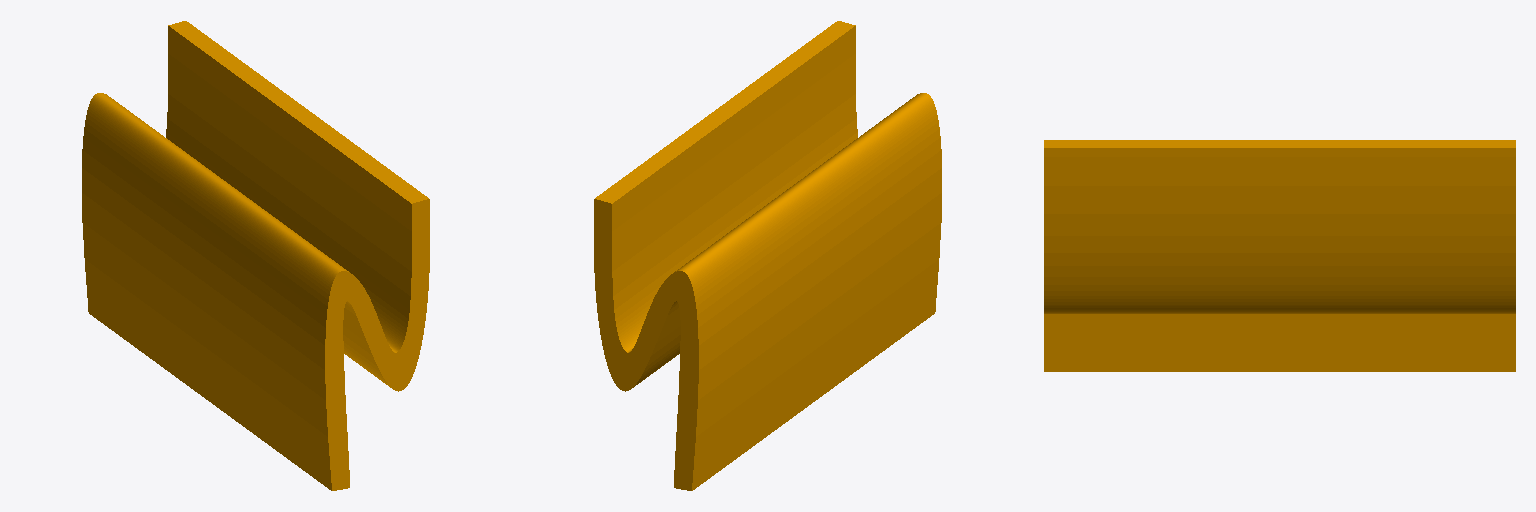
The robot description file, URDF, robot "my_object":
<?xml version="1.0"?>
<robot name="my_object">
  <link name="object_link">
    <inertial>
      <mass value="1.0"/>
      <origin xyz="0 0 0" rpy="0 0 0"/>
      <inertia ixx="0.01" ixy="0" ixz="0" iyy="0.01" iyz="0" izz="0.01"/>
    </inertial>
    <visual>
      <origin xyz="0 0 0" rpy="0 0 0"/>
      <geometry>
        <mesh filename="package://environment/meshes/obj.stl" scale="2.2 2.2 2.2"/>
      </geometry>
    </visual>
    <collision>
      <origin xyz="0 0 0" rpy="0 0 0"/>
      <geometry>
        <mesh filename="package://environment/meshes/obj.stl" scale="2.2 2.2 2.2"/>
      </geometry>
    </collision>
  </link>

  <gazebo reference="object_link">
    <static>true</static>
  </gazebo>
</robot>

--- What the picture shows (computed from the rendered views, not written in the file) ---
3 views of the same robot in one strip: view 1: azimuth 30°, elevation 25°; view 2: azimuth 150°, elevation 25°; view 3: azimuth 270°, elevation 25° (orthographic).
Model my_object with 1 links and 0 joints (none), rooted at object_link, posed all joints at 0.
Visible links, largest first — view 1: object_link; view 2: object_link; view 3: object_link.
Link boxes in pixels (x1,y1,x2,y2): object_link: [82, 21, 429, 490]; object_link: [594, 21, 941, 490]; object_link: [1044, 140, 1515, 371].
Bounding box of the posed robot: 0.067 × 0.2684 × 0.1641 m (x, y, z).
1 mesh visuals loaded from 1 distinct referenced files (1 binary STL).
